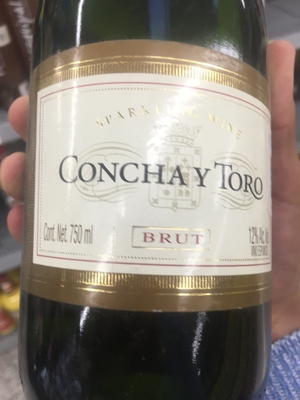brut: (30, 4, 269, 400)
